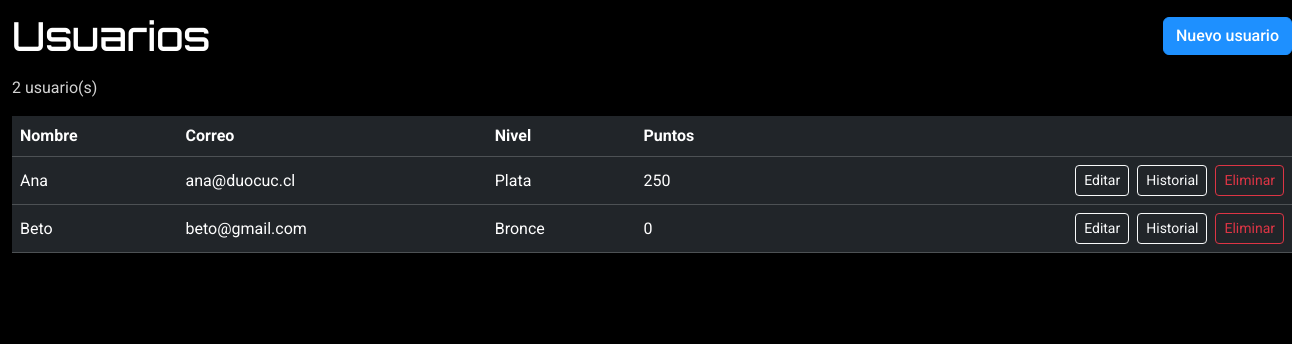
it: AdminUsuariosView › elimina al usuario cuando se confirma
This screenshot has width=1292, height=344.
Step 1. Click the button with aria-label "Eliminar Ana" → (1250,180), box [1216, 165, 1284, 196]
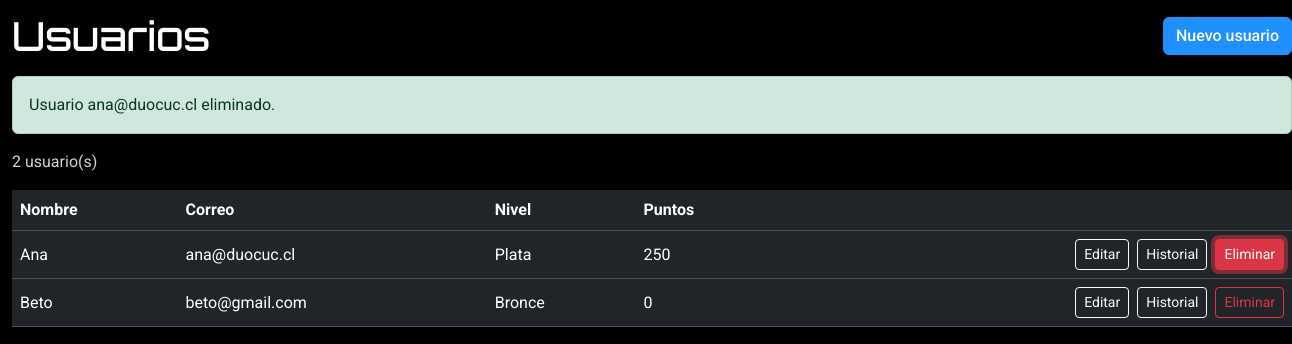
Expected: the message reads "Usuario ana@duocuc.cl eliminado.", [29, 95, 275, 114]
